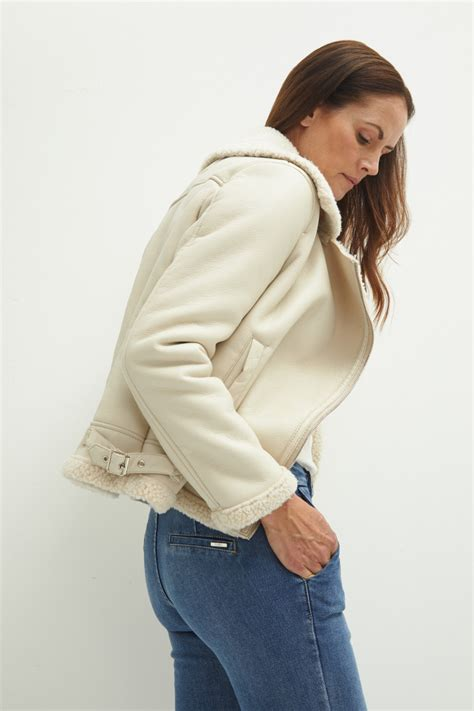gamuza: (60, 153, 377, 531)
